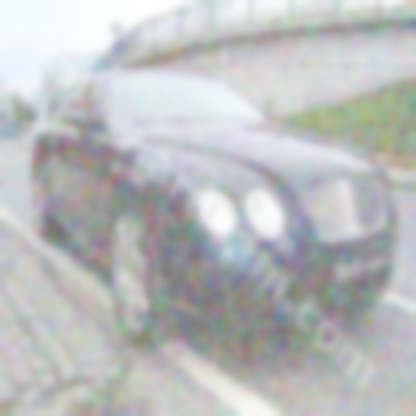Vehicle: (29, 69, 405, 354)
